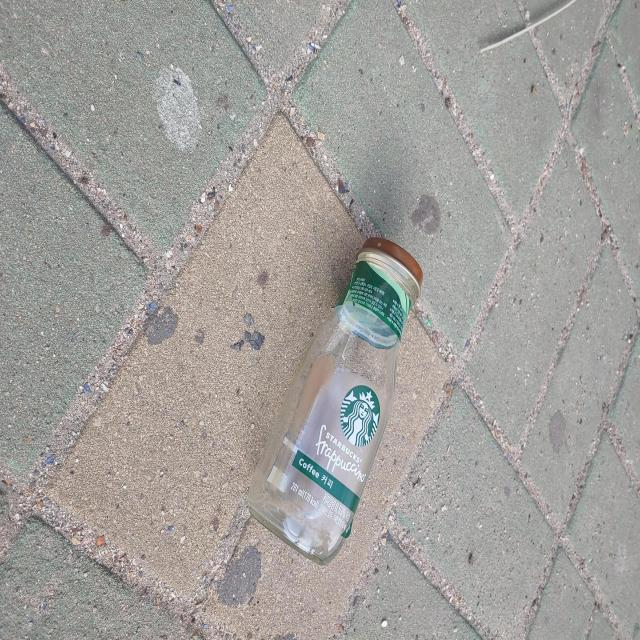glass: (249, 237, 422, 564)
